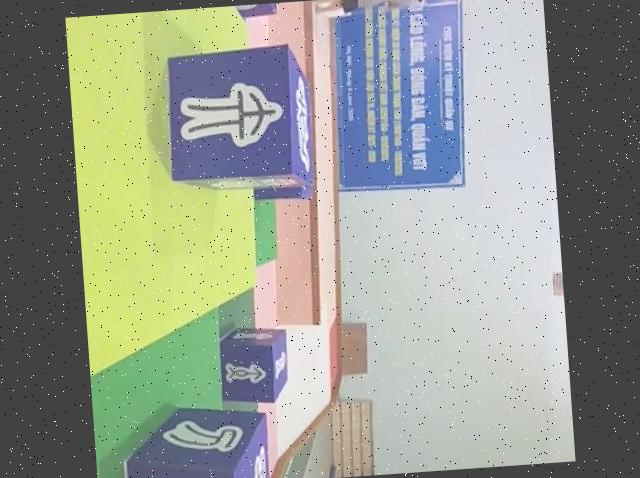R2 Fake Blue: (161, 42, 317, 198), (113, 403, 268, 478)
R2 Real Blue: (216, 323, 292, 406)
